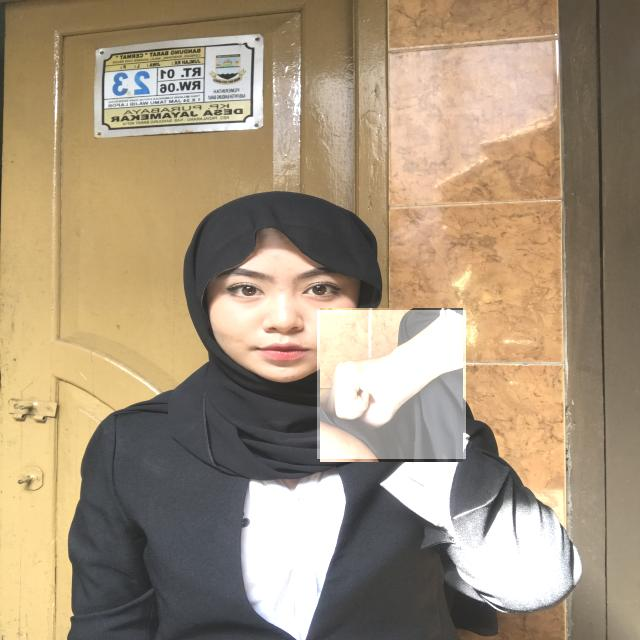ibu: (317, 310, 466, 459)
